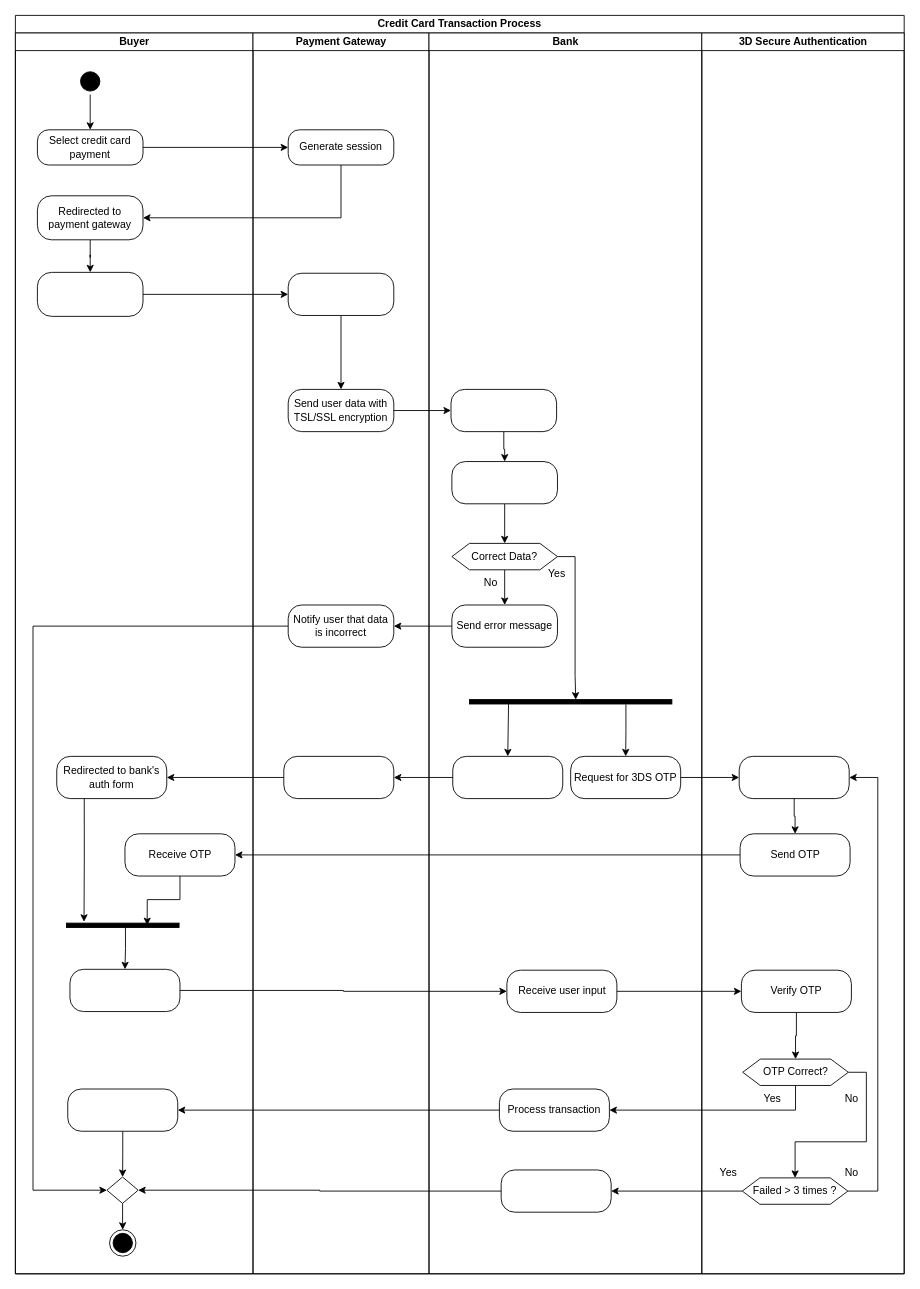
This 920x1289 diagram has some shape labels left out. The centre of each missing label's shape, as x and y in pixels:
Detokenize data: point 503,410
Generate auth form: point 507,777
Generate OTP: point 793,777
Input credit card informations: point 90,293
Input OTP: point 124,990
Lock user: point 555,1190
Payment succesful: point 122,1109
Redirect user to bank's auth form: point 338,777
Tokenize data: point 340,293
Verify data: point 504,482
